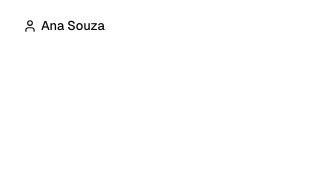
Test: UserMenu › shows the name, e-mail and role label
This screenshot has width=332, height=174.
Later steps or results of the test are not shown.
Click the button "Ana Souza": (64, 26) [12, 12, 116, 40]
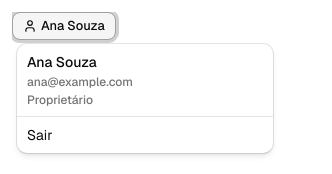
Check: the text "ana@example.com" is shown, box [27, 74, 133, 90]
Check: the text "Proprietário" is shown, box [27, 92, 93, 108]
Check: the menu item "Sair" is shown, box [21, 121, 269, 149]
